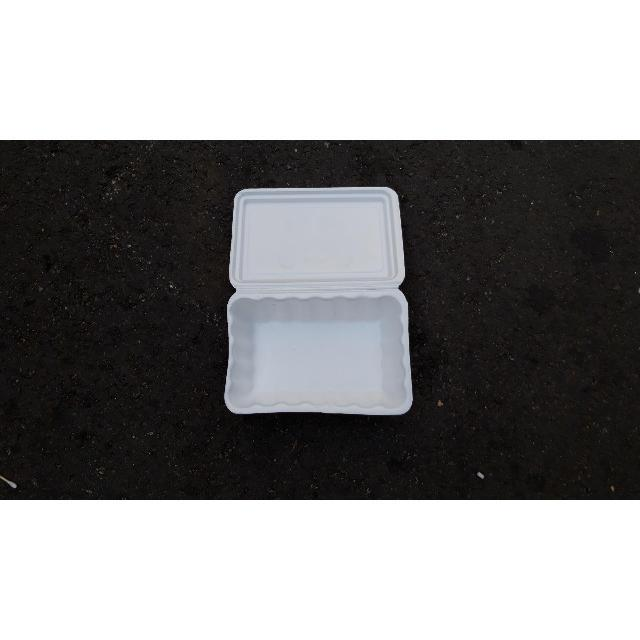Plastico descartable: (226, 190, 414, 417)
